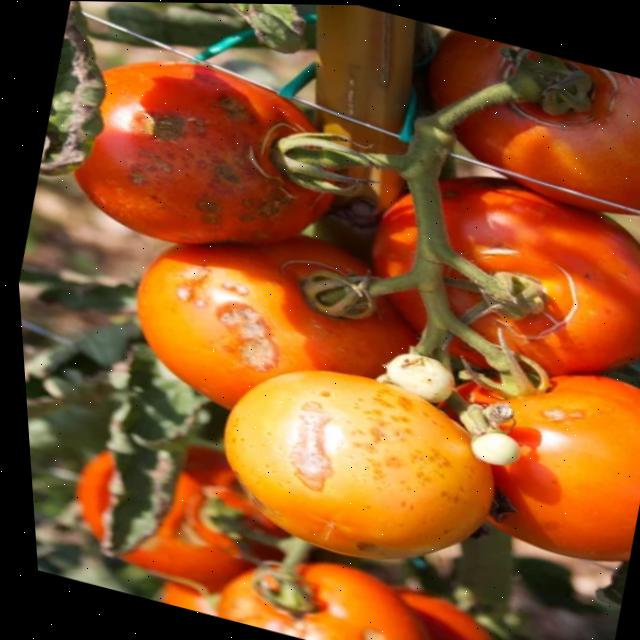damaged: (40, 23, 366, 280), (66, 182, 411, 424), (183, 343, 511, 588), (339, 145, 640, 396), (414, 332, 640, 572), (398, 22, 640, 222)
